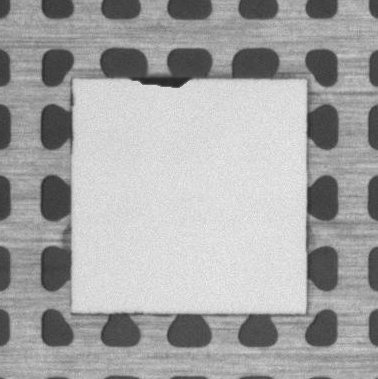DIE_BROKEN: (129, 73, 198, 89)
